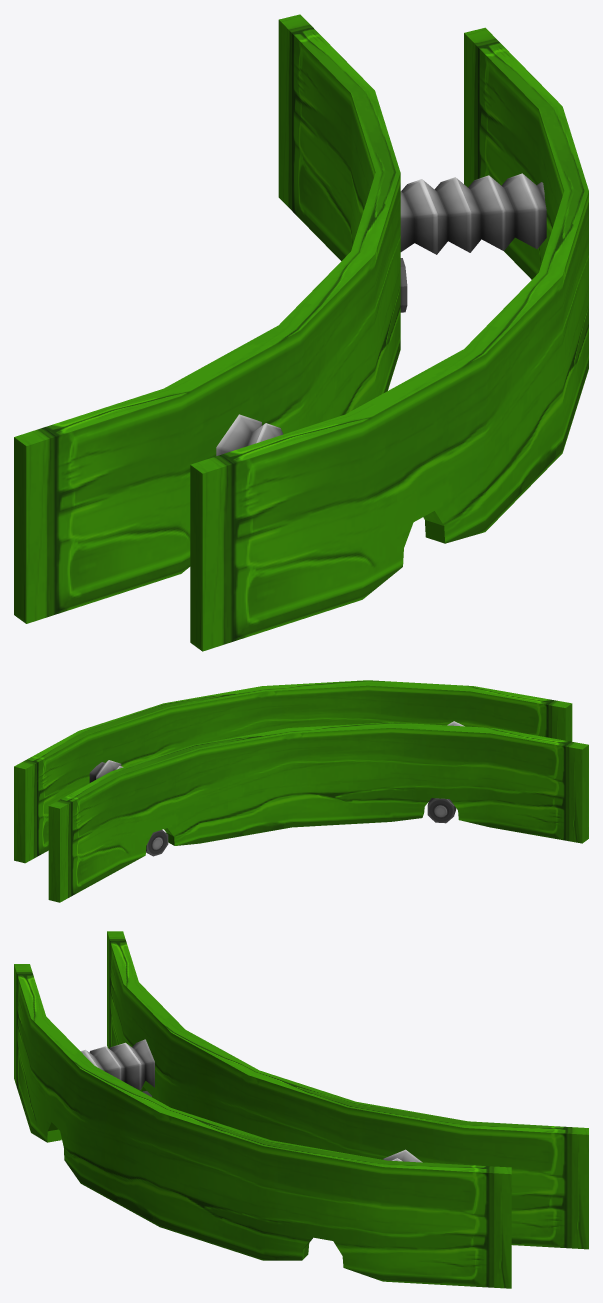
File: dynamic_arched_fence_green_04.fbx
3 renders of one model, top to bottom at view 1: azimuth 30°, elevation 25°; view 2: azimuth 150°, elevation 25°; view 3: azimuth 270°, elevation 25°, orthographic. The views are drawn at different scales.
Visible parts, largest first — view 1: dynamic_arched_fence_green_04; view 2: dynamic_arched_fence_green_04; view 3: dynamic_arched_fence_green_04.
Part boxes in pixels (x1,y1,x2,y2): dynamic_arched_fence_green_04: (14, 14, 588, 651); dynamic_arched_fence_green_04: (14, 680, 588, 902); dynamic_arched_fence_green_04: (14, 931, 588, 1288).
Size of the model in its own units: 182 by 40 by 182.
